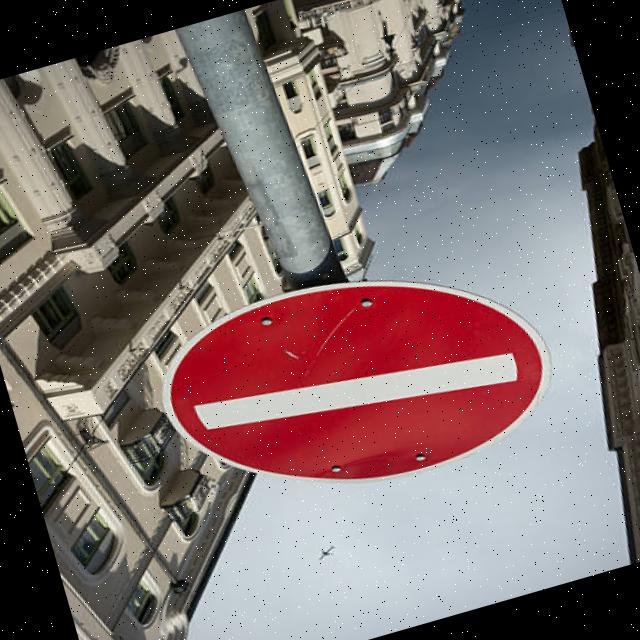do_not_enter: (139, 217, 586, 544)
